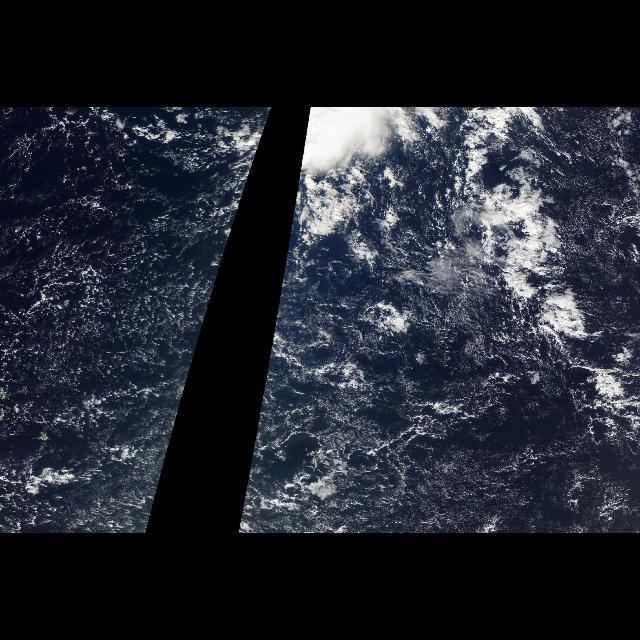Gravel: (236, 153, 640, 533), (0, 115, 256, 532)
Sugar: (276, 284, 640, 534), (11, 120, 217, 520)
